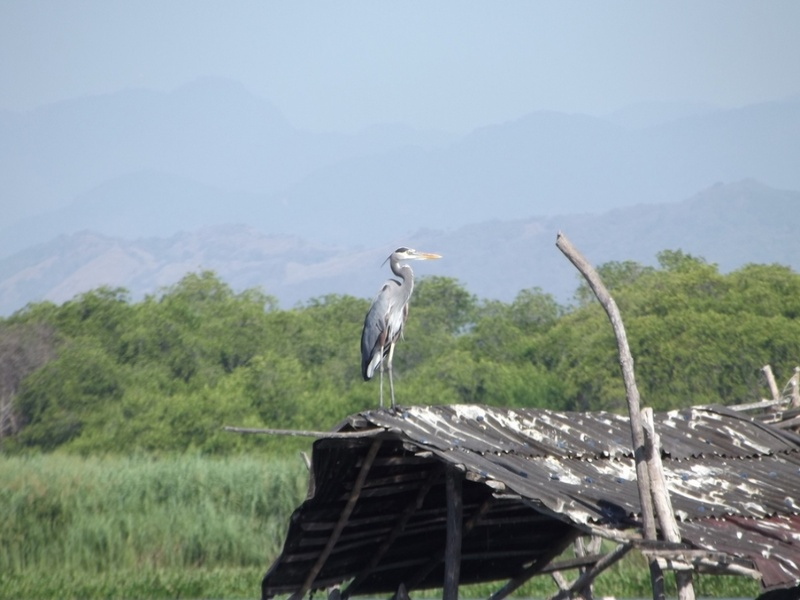heron: (358, 246, 440, 415)
